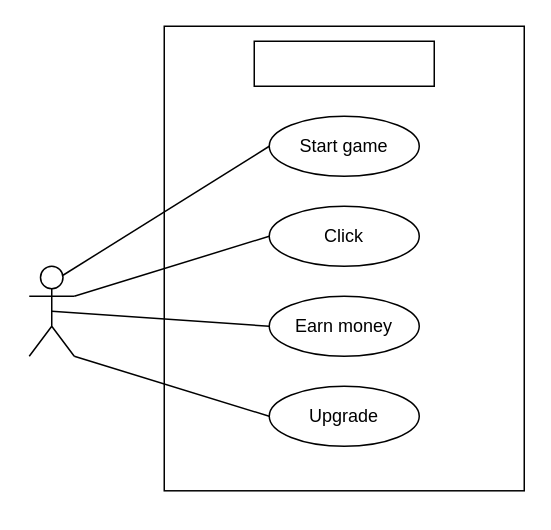
This 551x530 diagram has some shape labels left out. Each missing label, with the centre of its shape:
"Clicker game" belongs at point (343, 63).
"Player" belongs at point (51, 310).
